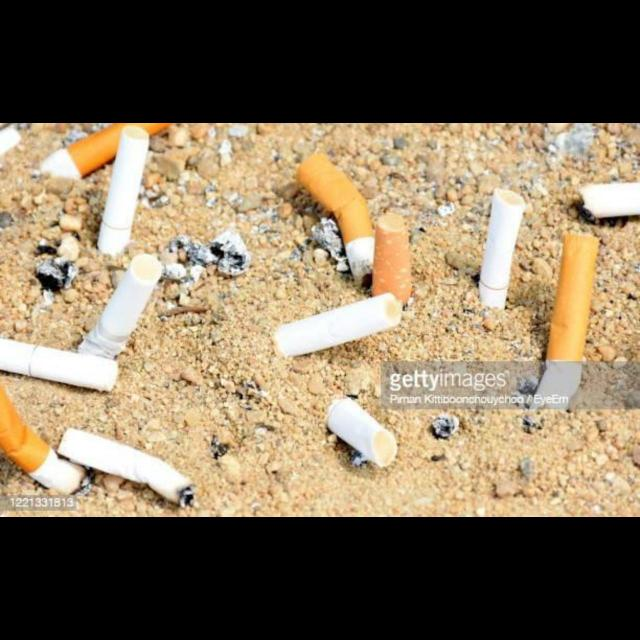cigarette: (58, 428, 196, 510), (536, 234, 599, 399), (296, 152, 375, 278), (0, 383, 85, 494), (77, 253, 162, 358), (274, 294, 403, 357), (41, 123, 173, 178), (98, 126, 148, 255), (0, 339, 118, 392), (479, 188, 525, 310), (328, 400, 397, 467), (372, 213, 411, 305), (579, 183, 640, 218)
